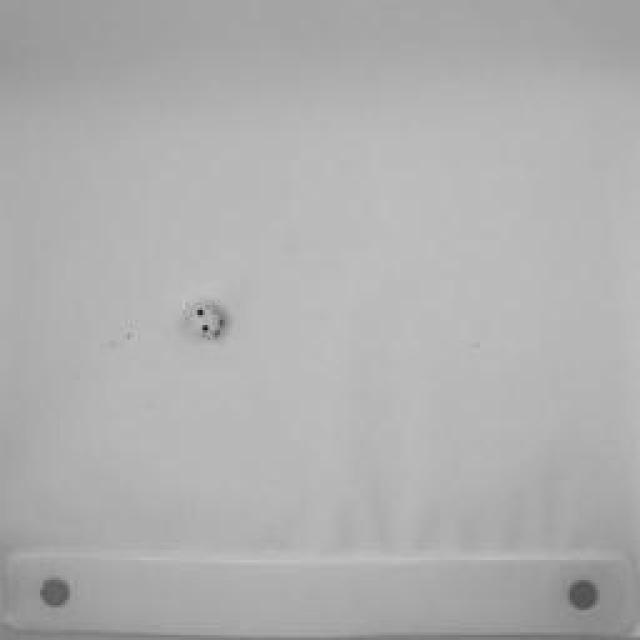dice_2: (184, 304, 226, 344)
